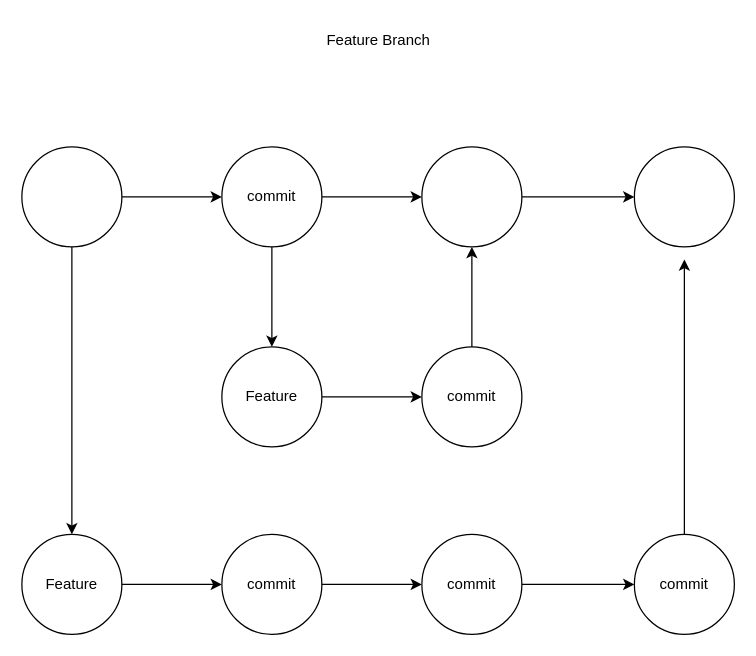
Image size: 756x656. Some labels were removed from this diagram. The shapes that lost their labels are listed below. From the top down, each one's box as (x1, y1, x2, y2) in pixels, then its label:
(21, 146, 122, 247): Main
(421, 146, 522, 247): merge
(633, 146, 734, 247): merger
